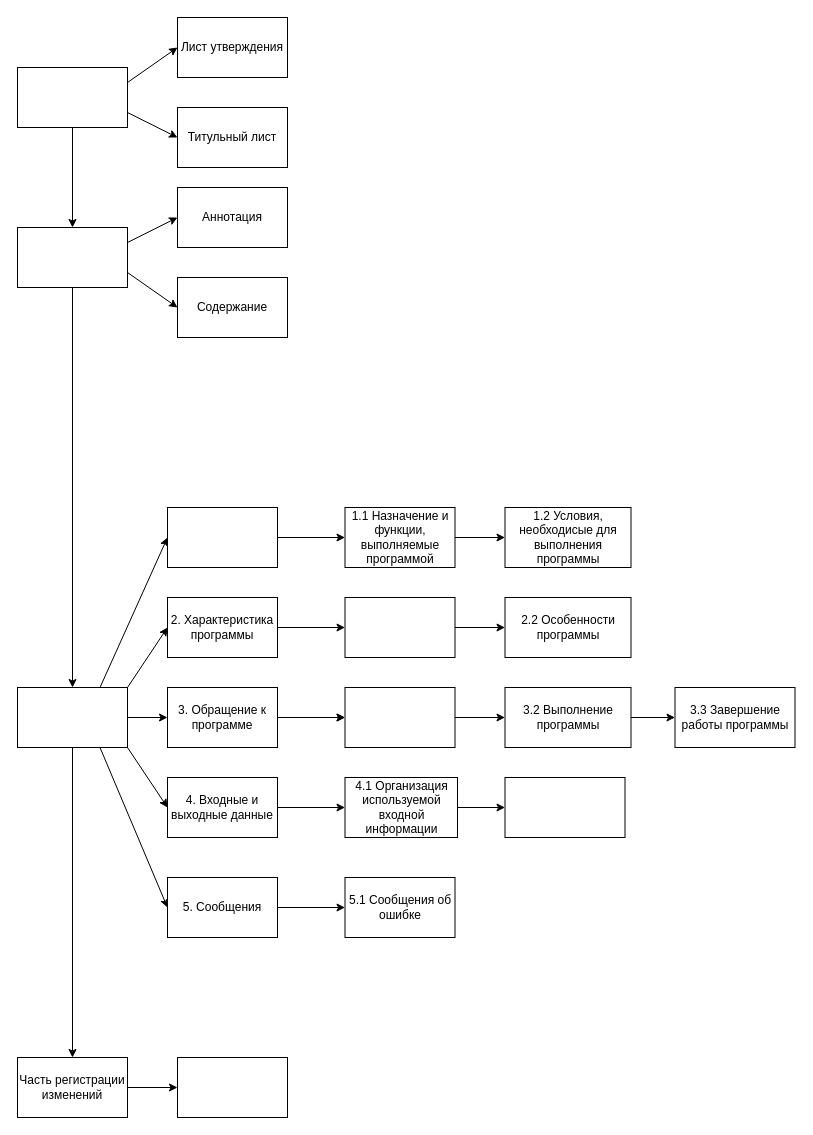
Image size: 813x1135. Some labels were removed from this diagram. The shapes that lost their labels are listed below. From the top down, each one's centre as x and y in pixels, then its label:
At [72,97]: "Титульная часть".
At [72,257]: "Информационная часть".
At [222,537]: "1. Назначение и условия применения программ".
At [399,627]: "2.1 Основные характеристики".
At [72,717]: "Основная часть".
At [399,717]: "3.1 Загрузка и запуск программы".
At [564,807]: "4.2 Организация используемой выходной информации".
At [232,1087]: "Лист регистрации изменений".
